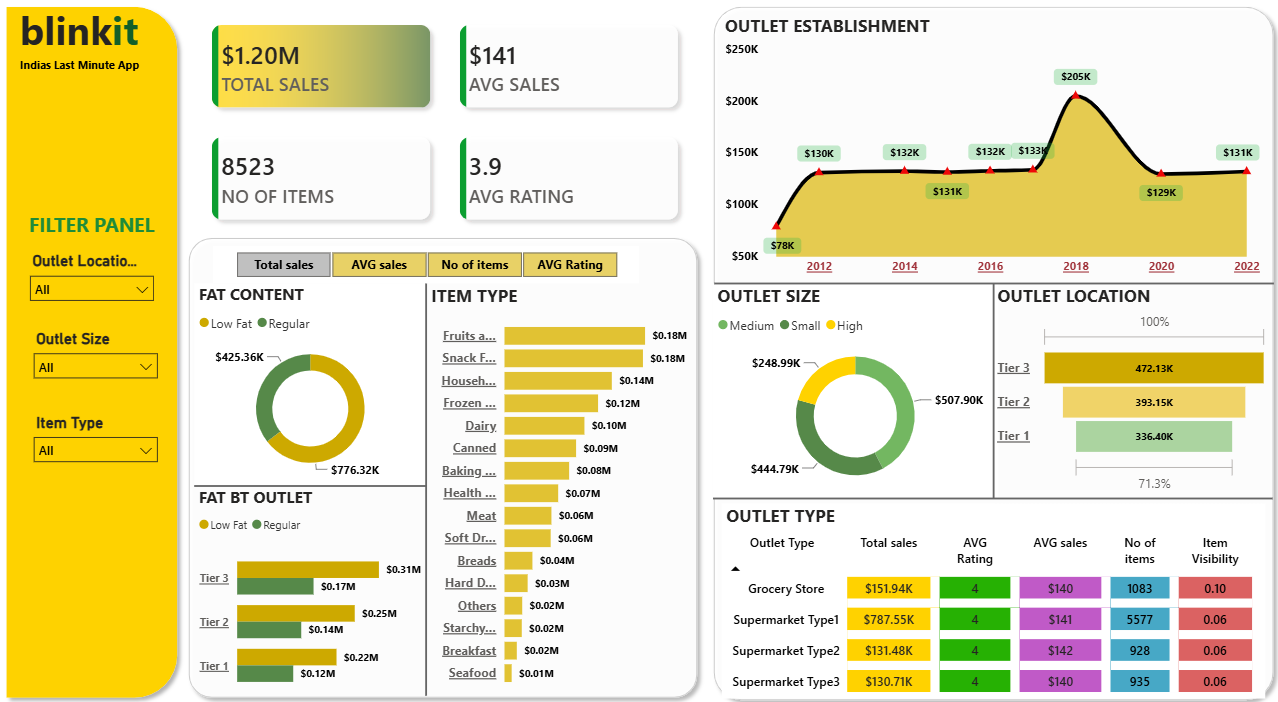

The page's visual inventory and layout, read from the dashboard file:
{"tool":"powerbi","page":{"name":"Page 1","canvas":[1400,800],"ordinal":0},"visuals":[{"type":"shape","box":[0,13.6,204.5,771.6],"z":0},{"type":"textbox","box":[19.5,13.5,165.1,76.5],"z":1000},{"type":"textbox","box":[19.5,70.5,156.1,37.5],"z":2000},{"type":"cardVisual","fields":{"Data":["BlinkIT Grocery Data.Total sales","BlinkIT Grocery Data.AVG sales","BlinkIT Grocery Data.No of items","BlinkIT Grocery Data.AVG Rating"]},"box":[204.5,13.6,567.1,271.3],"z":3000},{"type":"shape","box":[199,265.9,572.6,519.4],"z":4000},{"type":"slicer","fields":{"Values":["Matrics.Matrics"]},"box":[234.5,283.6,464.9,40.9],"z":5000},{"type":"donutChart","title":"FAT CONTENT","fields":{"Y":["BlinkIT Grocery Data.Total sales"],"Category":["BlinkIT Grocery Data.Item Fat Content"]},"box":[214,324.5,253.6,220.9],"z":6000},{"type":"clusteredBarChart","title":"FAT BT OUTLET","fields":{"Y":["BlinkIT Grocery Data.Total sales"],"Category":["BlinkIT Grocery Data.Outlet Location Type"],"Series":["BlinkIT Grocery Data.Item Fat Content"]},"box":[214,545.3,253.6,239.9],"z":7000},{"type":"shape","box":[214,526.2,253.6,38.2],"z":8000},{"type":"shape","box":[447.2,324.5,39.5,449.9],"z":9000},{"type":"barChart","title":"ITEM TYPE","fields":{"Y":["BlinkIT Grocery Data.Total sales"],"Category":["BlinkIT Grocery Data.Item Type"]},"box":[467.6,324.5,289,449.9],"z":10000},{"type":"shape","box":[771.6,13.6,628.5,774.4],"z":11000},{"type":"lineChart","title":"OUTLET ESTABLISHMENT","fields":{"Y":["BlinkIT Grocery Data.Total sales"],"Category":["BlinkIT Grocery Data.Outlet Establishment Year"]},"box":[788,30,593.1,294.5],"z":12000},{"type":"donutChart","title":"OUTLET SIZE","fields":{"Y":["BlinkIT Grocery Data.Total sales"],"Category":["BlinkIT Grocery Data.Outlet Size"]},"box":[779.8,324.5,310.8,234.5],"z":13000},{"type":"shape","box":[1066.1,324.5,39.5,234.5],"z":14000},{"type":"funnel","title":"OUTLET LOCATION","fields":{"Y":["Sum(BlinkIT Grocery Data.Sales)"],"Category":["BlinkIT Grocery Data.Outlet Location Type"]},"box":[1085.2,324.5,305.4,234.5],"z":15000},{"type":"shape","box":[779.8,545.3,610.8,27.3],"z":16000},{"type":"shape","box":[781.2,310.8,610.8,27.3],"z":17000},{"type":"pivotTable","title":"OUTLET TYPE","fields":{"Rows":["BlinkIT Grocery Data.Outlet Type"],"Values":["BlinkIT Grocery Data.Total sales","BlinkIT Grocery Data.AVG Rating","BlinkIT Grocery Data.AVG sales","BlinkIT Grocery Data.No of items","Avg(BlinkIT Grocery Data.Item Visibility)"]},"box":[789.4,564.4,593.1,213],"z":18000},{"type":"slicer","fields":{"Values":["BlinkIT Grocery Data.Outlet Location Type"]},"box":[24.5,284.9,155.4,65.4],"z":19000},{"type":"slicer","fields":{"Values":["BlinkIT Grocery Data.Outlet Size"]},"box":[28.6,369.5,155.4,65.4],"z":20000},{"type":"slicer","fields":{"Values":["BlinkIT Grocery Data.Item Type"]},"box":[28.6,460.8,155.4,65.4],"z":21000},{"type":"textbox","box":[24.5,239.9,155.4,43.6],"z":22000}]}

Visuals, with their boxes on the page's 1400x800 design canvas (x1, y1, x2, y2). These are canvas units, not pixel positions in the 1278x702 screenshot, which may show the page scaled, cropped or inside an application window:
shape: <bbox>0, 14, 204, 785</bbox>
textbox: <bbox>20, 14, 185, 90</bbox>
textbox: <bbox>20, 70, 176, 108</bbox>
cardVisual - BlinkIT Grocery Data.Total sales x BlinkIT Grocery Data.AVG sales: <bbox>204, 14, 772, 285</bbox>
shape: <bbox>199, 266, 772, 785</bbox>
slicer - Matrics.Matrics: <bbox>234, 284, 699, 324</bbox>
"FAT CONTENT" donutChart: <bbox>214, 324, 468, 545</bbox>
"FAT BT OUTLET" clusteredBarChart: <bbox>214, 545, 468, 785</bbox>
shape: <bbox>214, 526, 468, 564</bbox>
shape: <bbox>447, 324, 487, 774</bbox>
"ITEM TYPE" barChart: <bbox>468, 324, 757, 774</bbox>
shape: <bbox>772, 14, 1400, 788</bbox>
"OUTLET ESTABLISHMENT" lineChart: <bbox>788, 30, 1381, 324</bbox>
"OUTLET SIZE" donutChart: <bbox>780, 324, 1091, 559</bbox>
shape: <bbox>1066, 324, 1106, 559</bbox>
"OUTLET LOCATION" funnel: <bbox>1085, 324, 1391, 559</bbox>
shape: <bbox>780, 545, 1391, 573</bbox>
shape: <bbox>781, 311, 1392, 338</bbox>
"OUTLET TYPE" pivotTable: <bbox>789, 564, 1382, 777</bbox>
slicer - BlinkIT Grocery Data.Outlet Location Type: <bbox>24, 285, 180, 350</bbox>
slicer - BlinkIT Grocery Data.Outlet Size: <bbox>29, 370, 184, 435</bbox>
slicer - BlinkIT Grocery Data.Item Type: <bbox>29, 461, 184, 526</bbox>
textbox: <bbox>24, 240, 180, 284</bbox>
